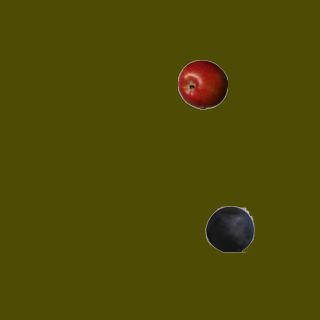Apple Braeburn: (177, 59, 227, 109)
Grape Blue: (204, 203, 254, 253)
